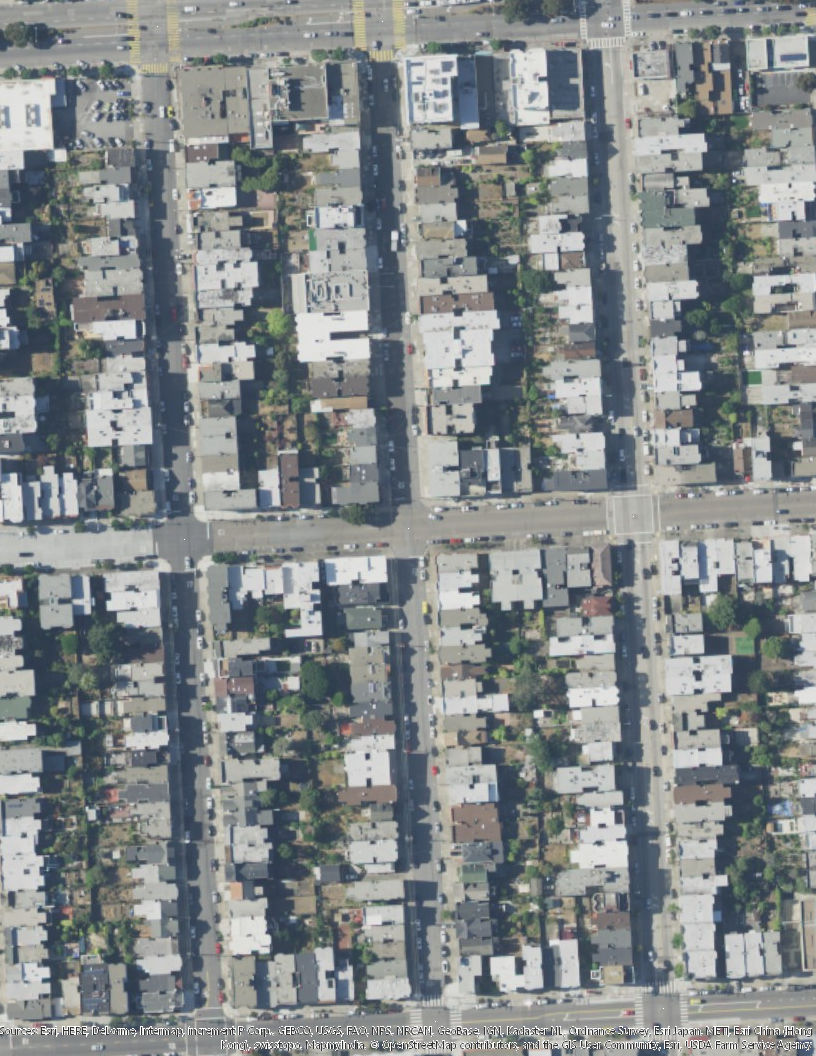zebracross: (163, 1, 184, 60), (123, 1, 141, 63), (351, 1, 369, 48), (393, 2, 407, 49), (642, 979, 677, 996), (590, 35, 625, 49), (142, 60, 167, 79), (677, 992, 690, 1028), (576, 1, 589, 37), (621, 1, 634, 37), (410, 1008, 423, 1043), (451, 1007, 462, 1048), (369, 50, 399, 62), (634, 995, 644, 1031), (422, 994, 444, 1006)
